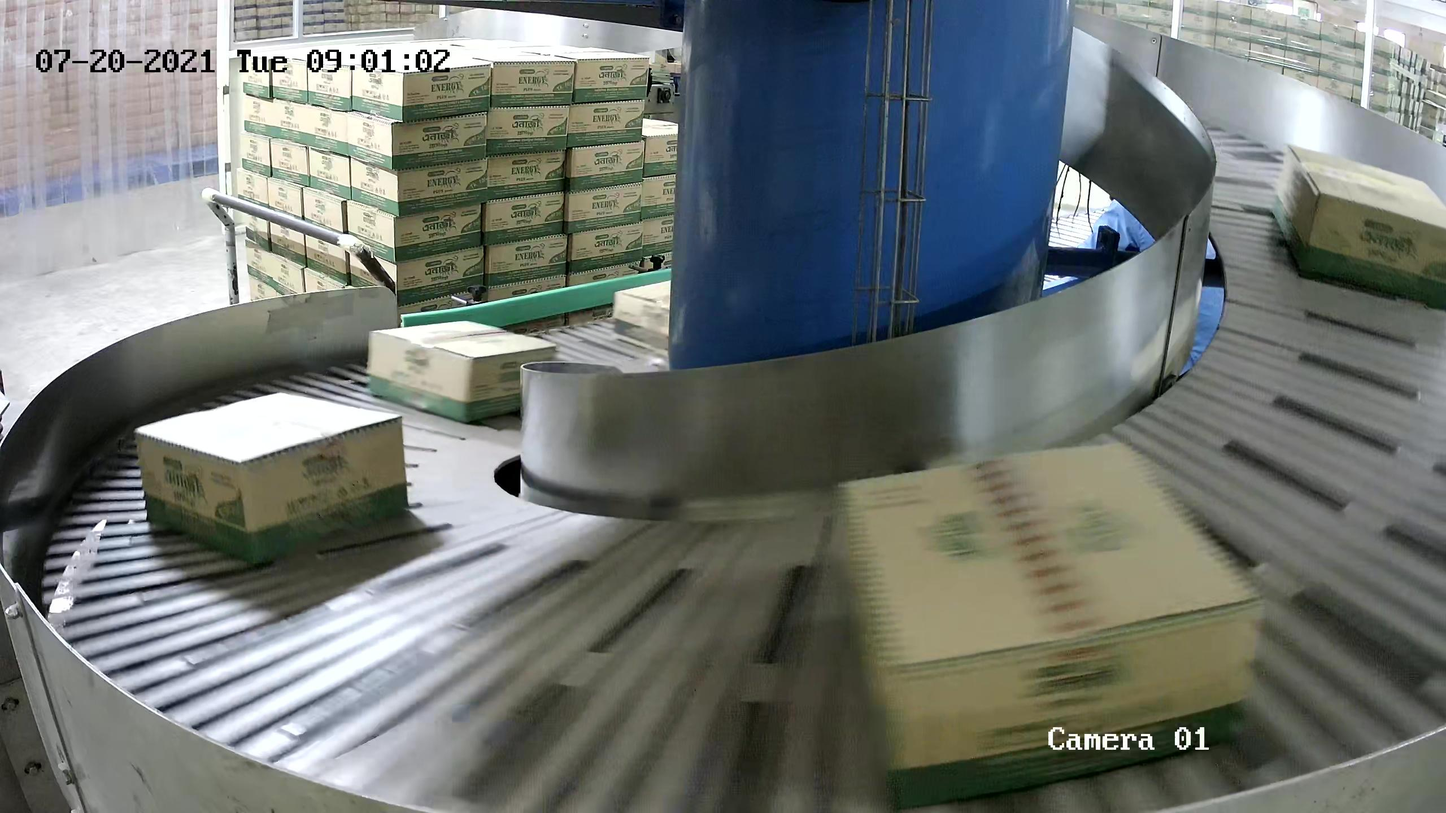Box: (828, 437, 1265, 813), (132, 388, 414, 568), (1268, 142, 1446, 309), (366, 318, 558, 423), (613, 279, 671, 357)
